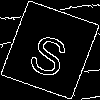S: (25, 25, 75, 80)
